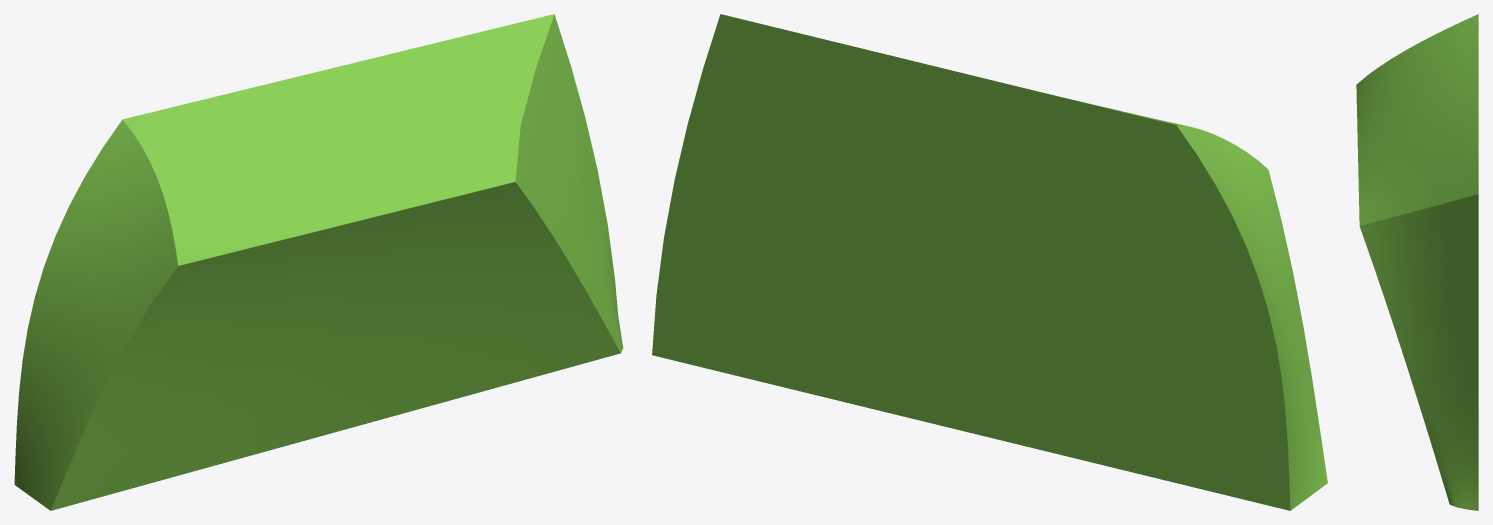
3 renders of one model, left to right at view 1: azimuth 30°, elevation 25°; view 2: azimuth 150°, elevation 25°; view 3: azimuth 270°, elevation 25°, orthographic. The views are drawn at different scales.
Parts seen in each view (by area): view 1: Node; view 2: Node; view 3: Node.
Part boxes in pixels (x1,y1,x2,y2): Node: (14, 14, 623, 510); Node: (652, 14, 1327, 510); Node: (1356, 14, 1478, 510).
Bounding box in the file's own units: 28 × 15 × 5.73.
